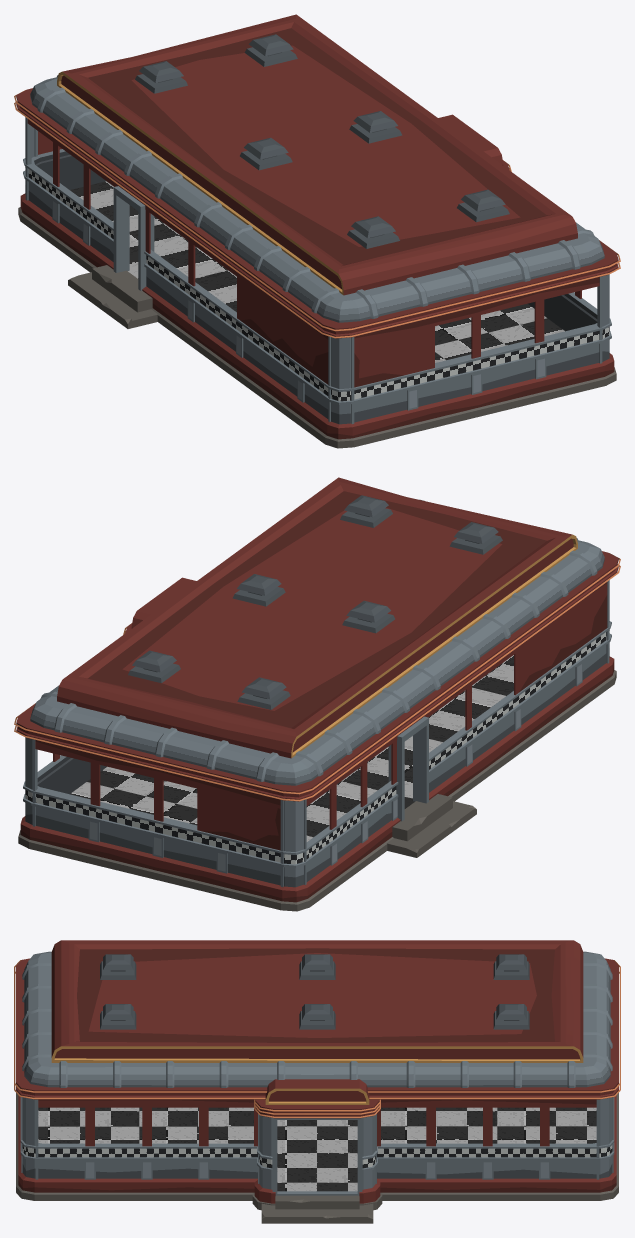
Rendered from sc-diner.glb.
3 renders of one model, top to bottom at view 1: azimuth 30°, elevation 25°; view 2: azimuth 150°, elevation 25°; view 3: azimuth 270°, elevation 25°, orthographic. The views are drawn at different scales.
Parts seen in each view (by area): view 1: SM_Bld_Diner_01; view 2: SM_Bld_Diner_01; view 3: SM_Bld_Diner_01.
Boxes of the visible parts, bbox=[...] form: SM_Bld_Diner_01: bbox=[14, 14, 620, 448]; SM_Bld_Diner_01: bbox=[14, 477, 620, 911]; SM_Bld_Diner_01: bbox=[14, 940, 620, 1223].
Size of the model in its own units: 14.34 by 6.19 by 22.
1 material, 1 textured.
